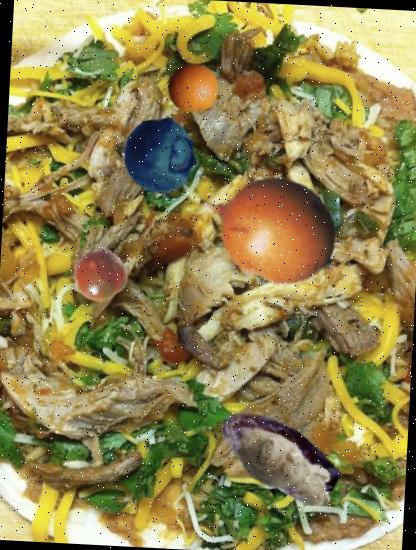Clementine: (249, 200, 334, 285)
Dates: (212, 386, 348, 522)
Ginger: (226, 409, 345, 528)
Granadilla: (192, 150, 344, 302)
Huckleberry: (121, 118, 199, 196)
Orange: (166, 60, 221, 114)
Tomato: (72, 247, 130, 304)
